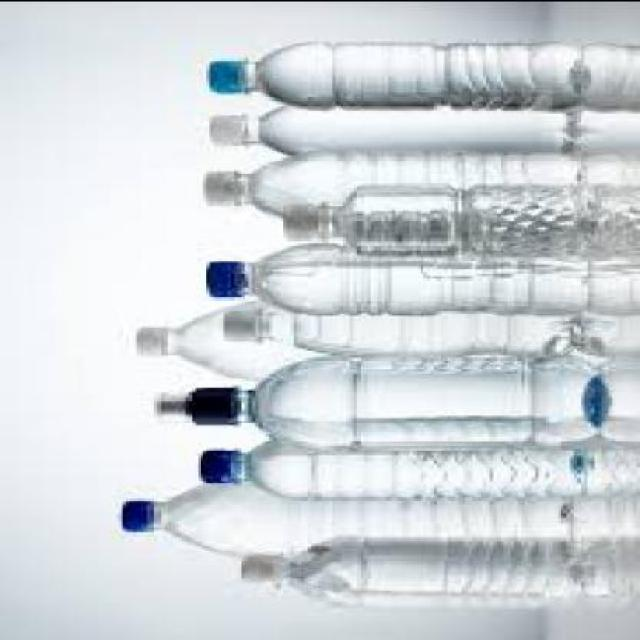PLASTIC: (150, 352, 605, 442), (118, 477, 574, 554), (280, 181, 637, 270), (199, 147, 584, 221), (203, 242, 594, 312), (220, 295, 591, 368), (206, 37, 585, 105), (234, 531, 591, 603), (196, 437, 587, 498), (202, 100, 581, 154), (133, 296, 336, 379), (157, 382, 240, 422), (276, 198, 326, 238), (199, 54, 252, 91), (202, 256, 248, 293), (192, 168, 242, 202), (196, 446, 242, 480), (200, 111, 248, 142), (238, 549, 276, 586), (115, 495, 154, 531), (224, 303, 262, 337), (137, 319, 171, 353)
